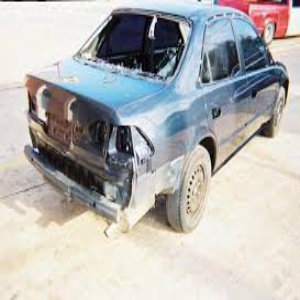rear_windshield_glass: (86, 9, 180, 86)
